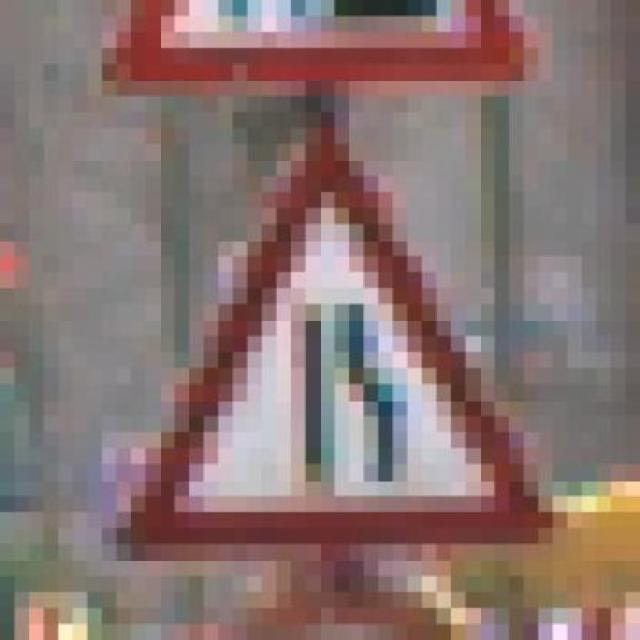-Road narrows on right: (116, 112, 567, 576)
